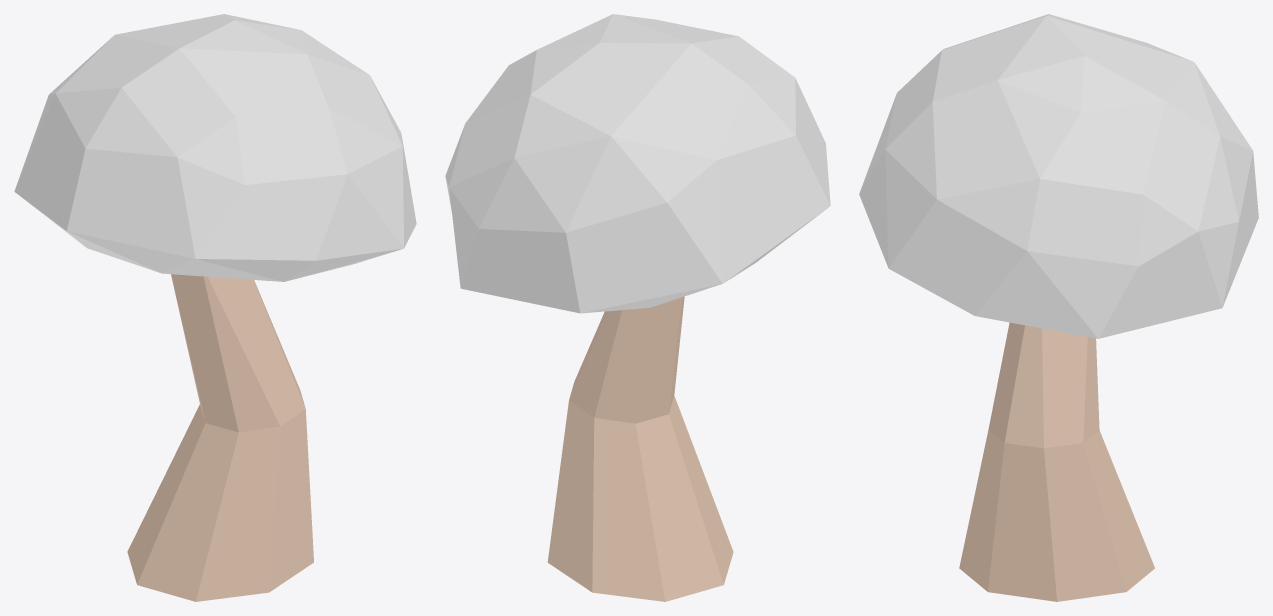
Rendered from mushroom-white.glb.
3 views of the same model, side by side, from view 1: azimuth 30°, elevation 25°; view 2: azimuth 150°, elevation 25°; view 3: azimuth 270°, elevation 25° (orthographic).
Visible parts, largest first — view 1: Node; view 2: Node; view 3: Node.
Part boxes in pixels (<box>): Node: <box>14,14,416,601</box>; Node: <box>445,14,830,601</box>; Node: <box>859,14,1258,601</box>.
Size of the model in its own units: 0.3081 by 0.4606 by 0.3106.
